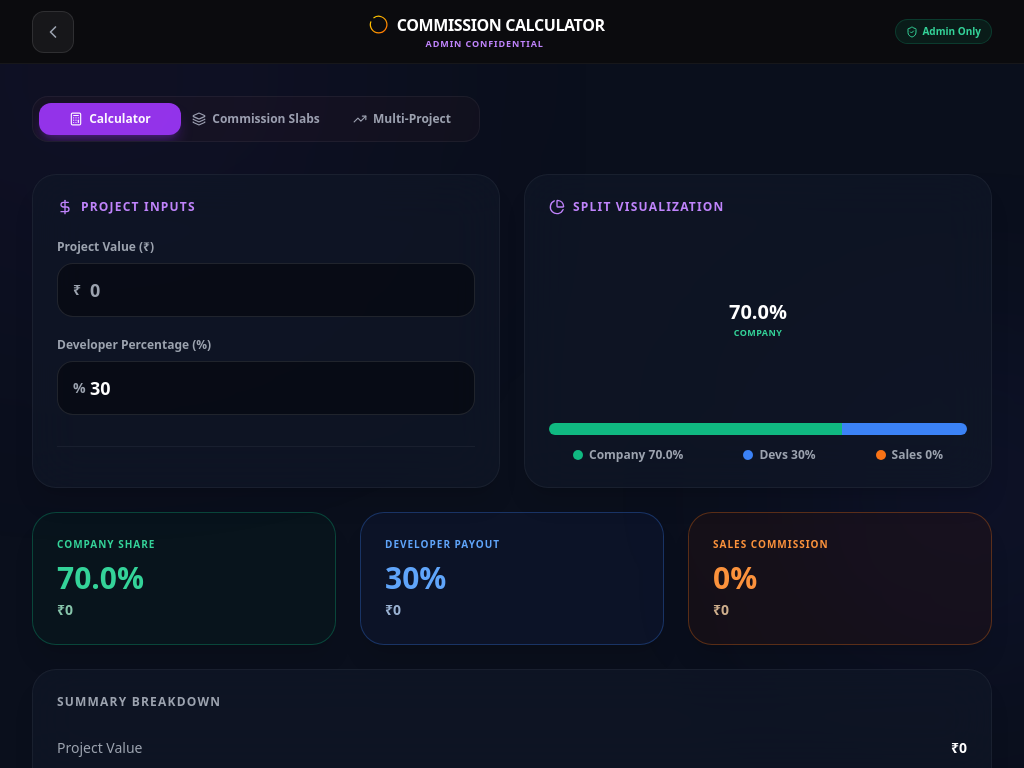
CommissionCalculatorPage › switches to Commission Slabs tab and renders slabs manager
Click the button "Commission Slabs": (256,119) top-left (185, 103), bottom-right (327, 135)
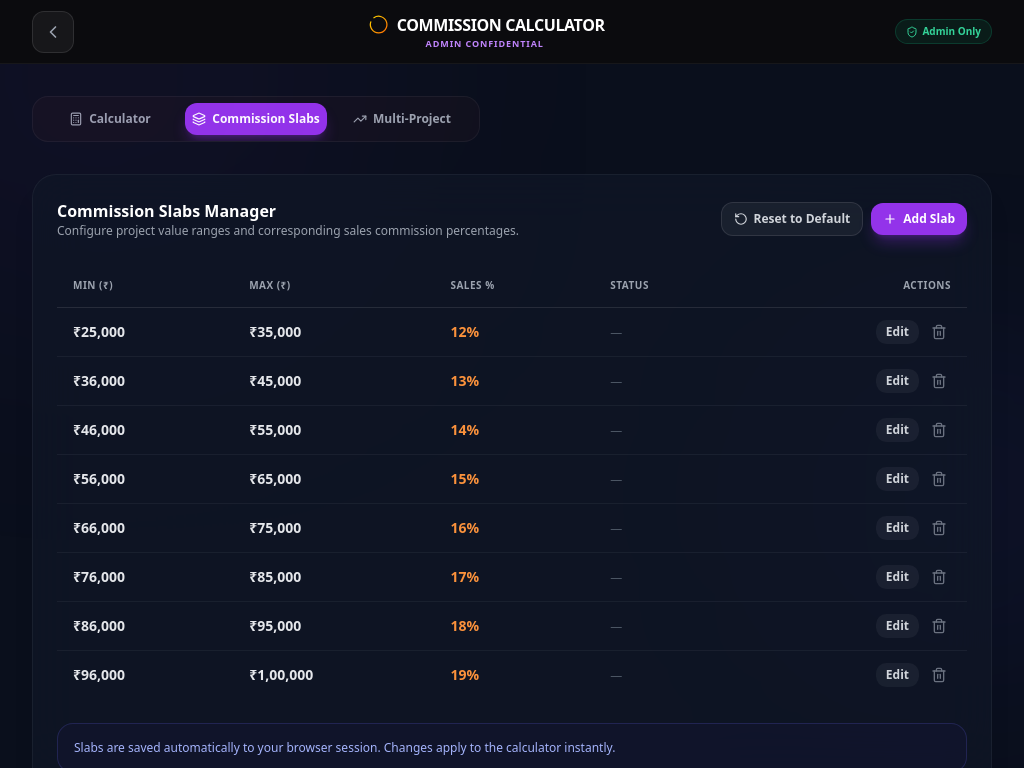
Expected: the heading "Commission Slabs Manager" is shown, top-left (57, 200), bottom-right (276, 222)
Expected: the button "Reset to Default" is shown, top-left (720, 202), bottom-right (863, 236)
Expected: the button "Add Slab" is shown, top-left (871, 203), bottom-right (967, 235)
